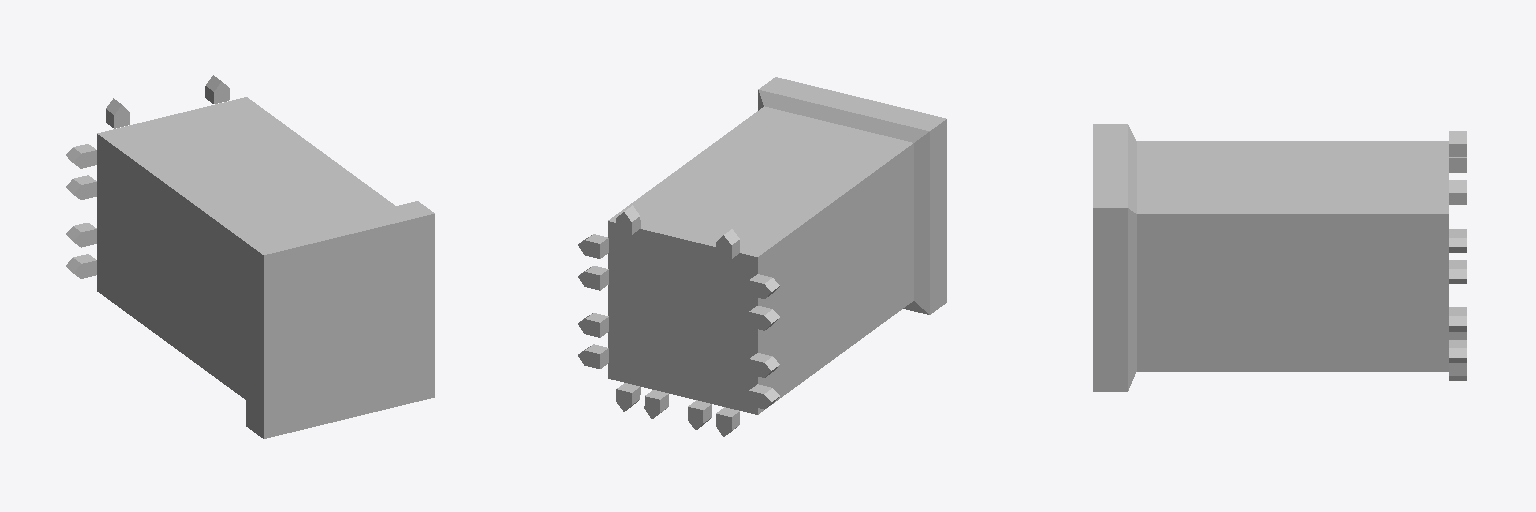
The model's file is V7space_base_withdetail.obj.
3 views of the same model, side by side, from view 1: azimuth 30°, elevation 25°; view 2: azimuth 150°, elevation 25°; view 3: azimuth 270°, elevation 25° (orthographic).
Visible parts, largest first — view 1: StateliteBase_Detail.001; view 2: StateliteBase_Detail.001; view 3: StateliteBase_Detail.001.
Boxes of the visible parts, <box> form: StateliteBase_Detail.001: <box>66,75,434,438</box>; StateliteBase_Detail.001: <box>578,77,946,436</box>; StateliteBase_Detail.001: <box>1093,124,1466,391</box>.
Bounding box in the file's own units: 26.47 × 26.39 × 44.13.